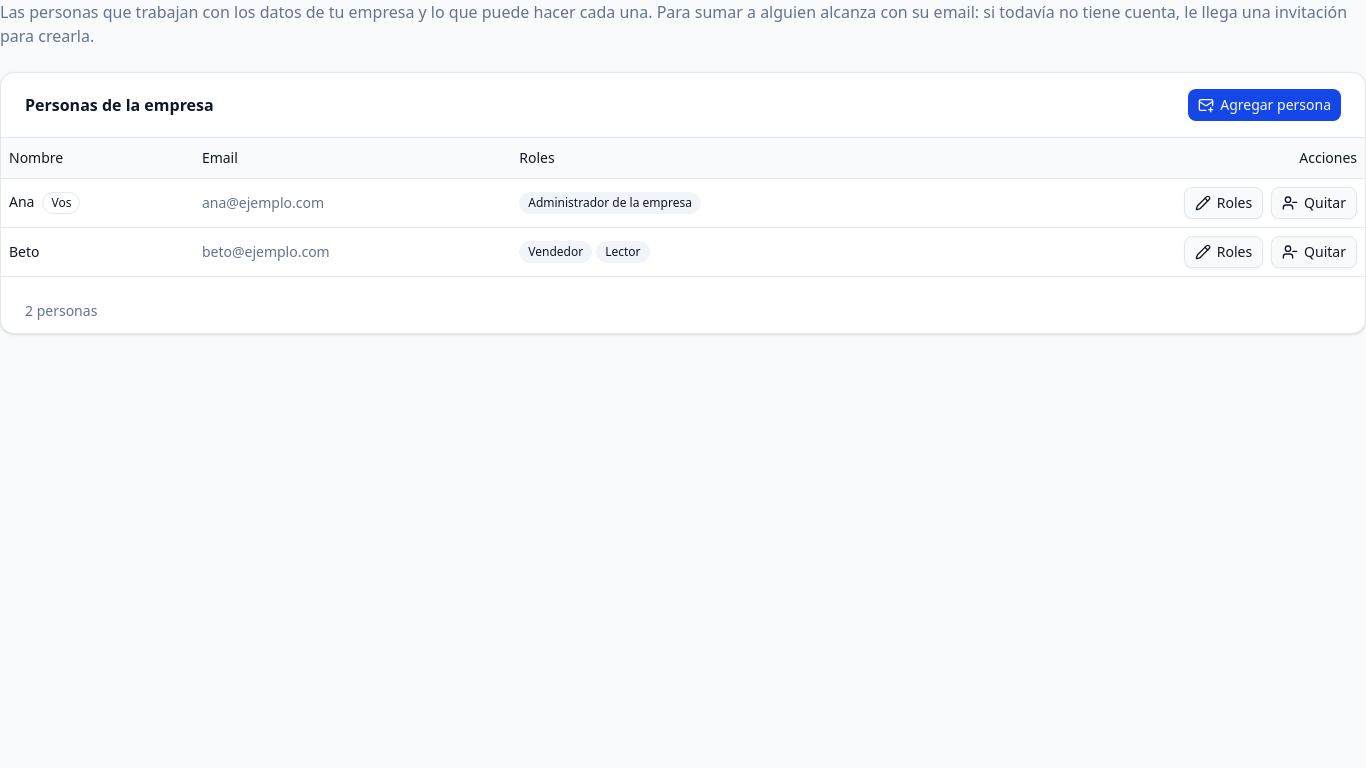
Test case: Equipo › explica por qué no se puede quitar al último administrador
Click the button with aria-label "Quitar a Ana".
click(1314, 202)  # box [1271,186,1357,218]
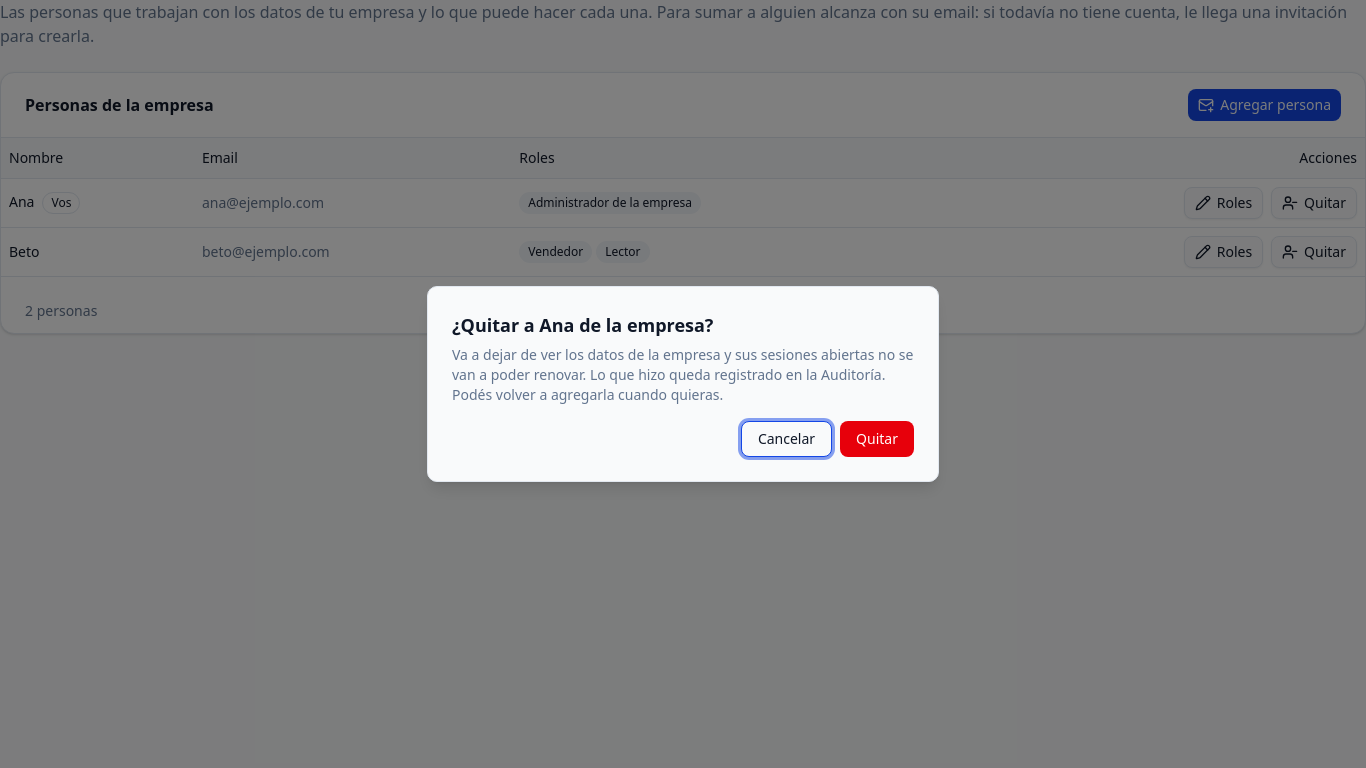
Click the button "Quitar".
click(877, 439)  # box [840,421,914,457]
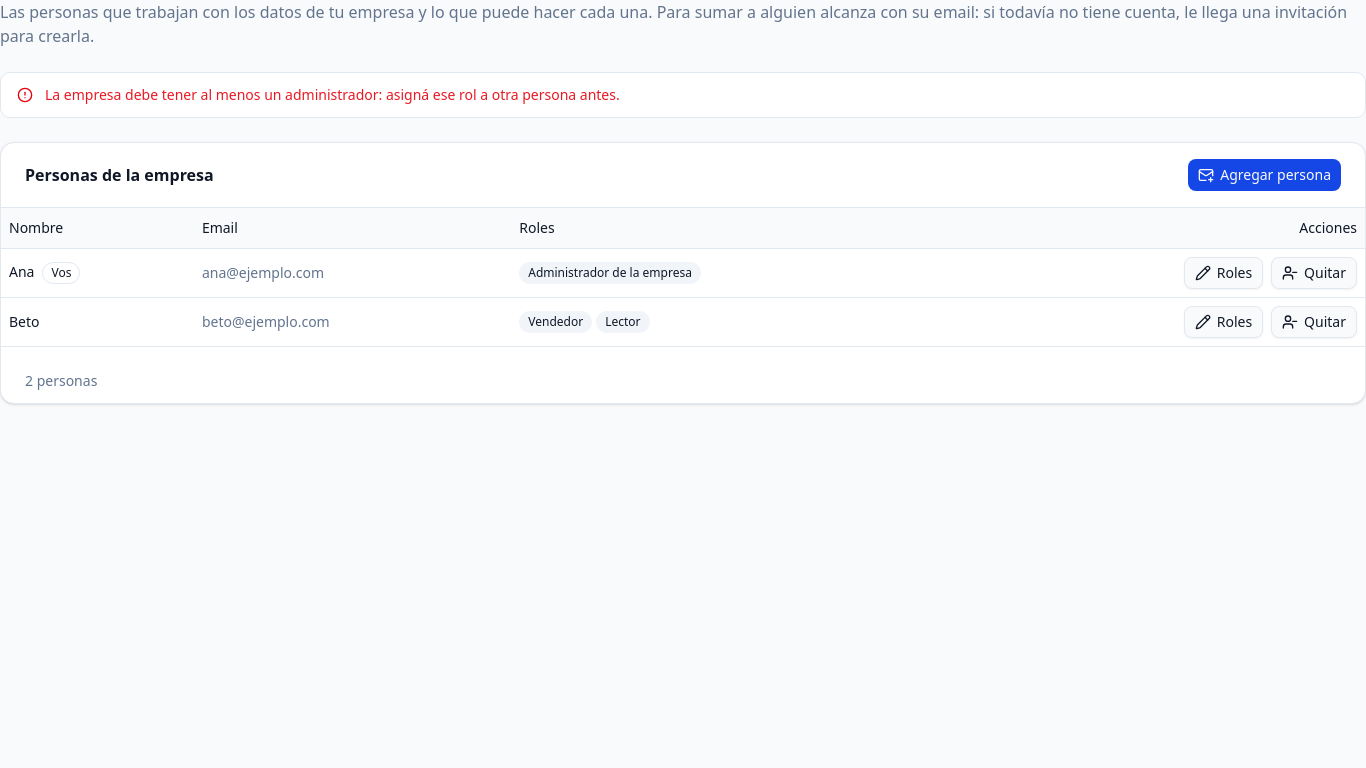
expect the text "debe tener al menos un administrador" is shown: met, box [45,85,620,104]
